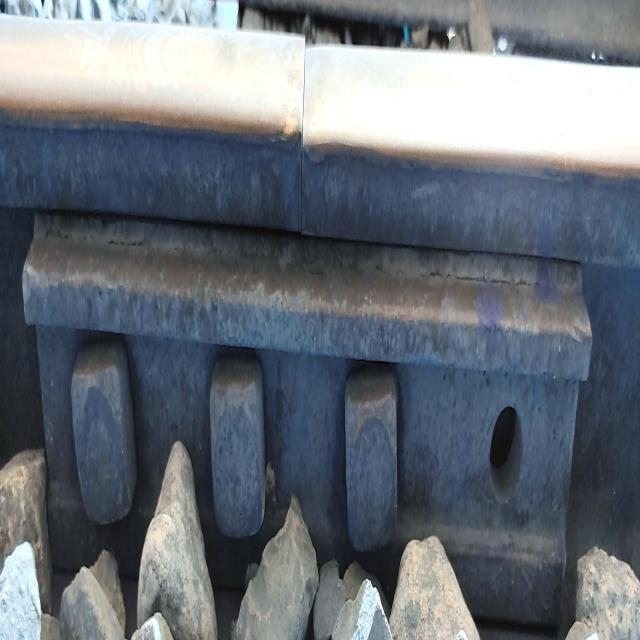Defective Joint: (22, 195, 603, 638)
